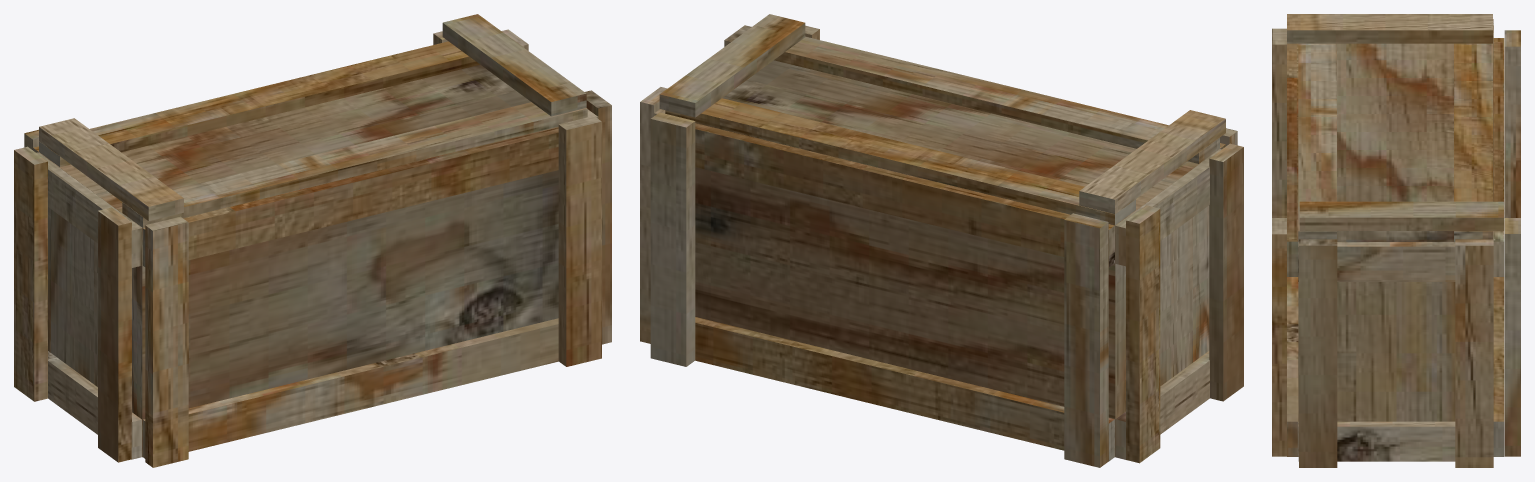
The model's file is crate.fbx.
3 views of the same model, side by side, from view 1: azimuth 30°, elevation 25°; view 2: azimuth 150°, elevation 25°; view 3: azimuth 270°, elevation 25° (orthographic). The views are drawn at different scales.
Visible parts, largest first — view 1: pCube22; view 2: pCube22; view 3: pCube22.
Boxes of the visible parts, x1,y1,x2,y2 form: pCube22: (14, 14, 611, 467); pCube22: (640, 14, 1243, 467); pCube22: (1272, 14, 1520, 467).
Size of the model in its own units: 4.26 by 2.1 by 1.98.
1 material, 1 textured.
